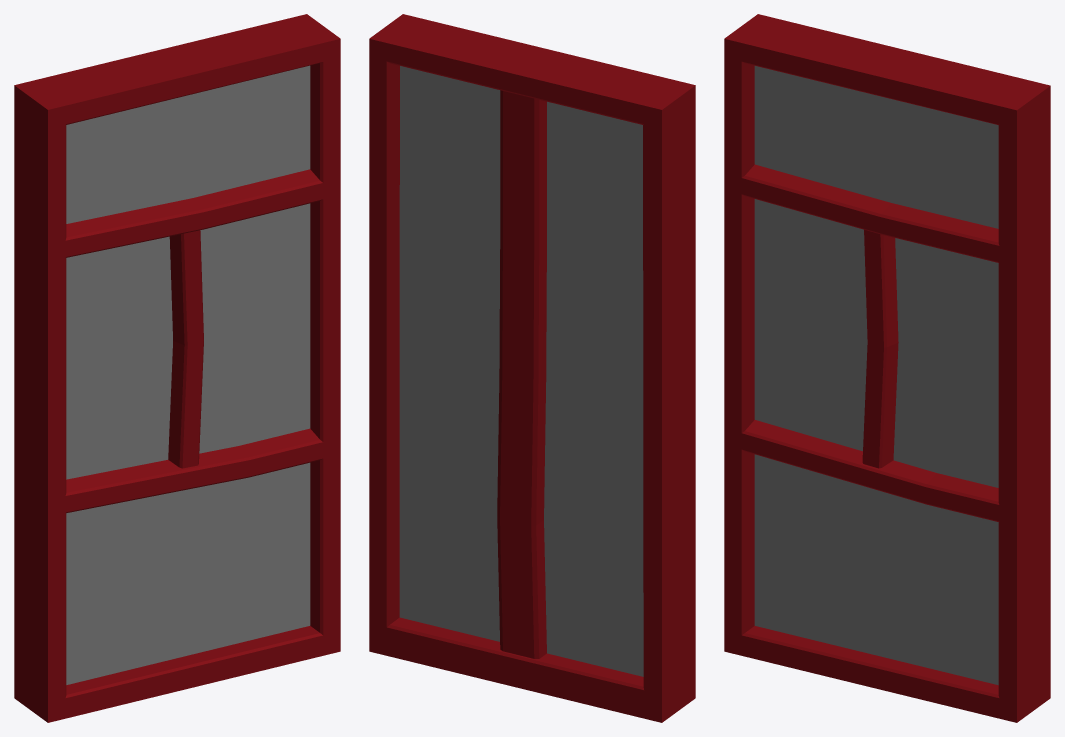
The model's file is SM_MH_01_Wood_02_Wall_Half_V_02.fbx.
3 views of the same model, side by side, from view 1: azimuth 30°, elevation 25°; view 2: azimuth 150°, elevation 25°; view 3: azimuth 330°, elevation 25° (orthographic).
Visible parts, largest first — view 1: SM_MH_01_Wood_02_Wall_Half_V_02_LOD0; view 2: SM_MH_01_Wood_02_Wall_Half_V_02_LOD0; view 3: SM_MH_01_Wood_02_Wall_Half_V_02_LOD0.
Part boxes in pixels (<box>): SM_MH_01_Wood_02_Wall_Half_V_02_LOD0: <box>14,14,340,722</box>; SM_MH_01_Wood_02_Wall_Half_V_02_LOD0: <box>369,14,695,722</box>; SM_MH_01_Wood_02_Wall_Half_V_02_LOD0: <box>724,14,1050,722</box>.
Size of what is drawn, in the model's own units: 150 by 300 by 30.
